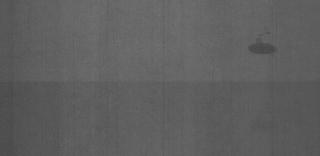oil spot: (245, 28, 283, 60)
